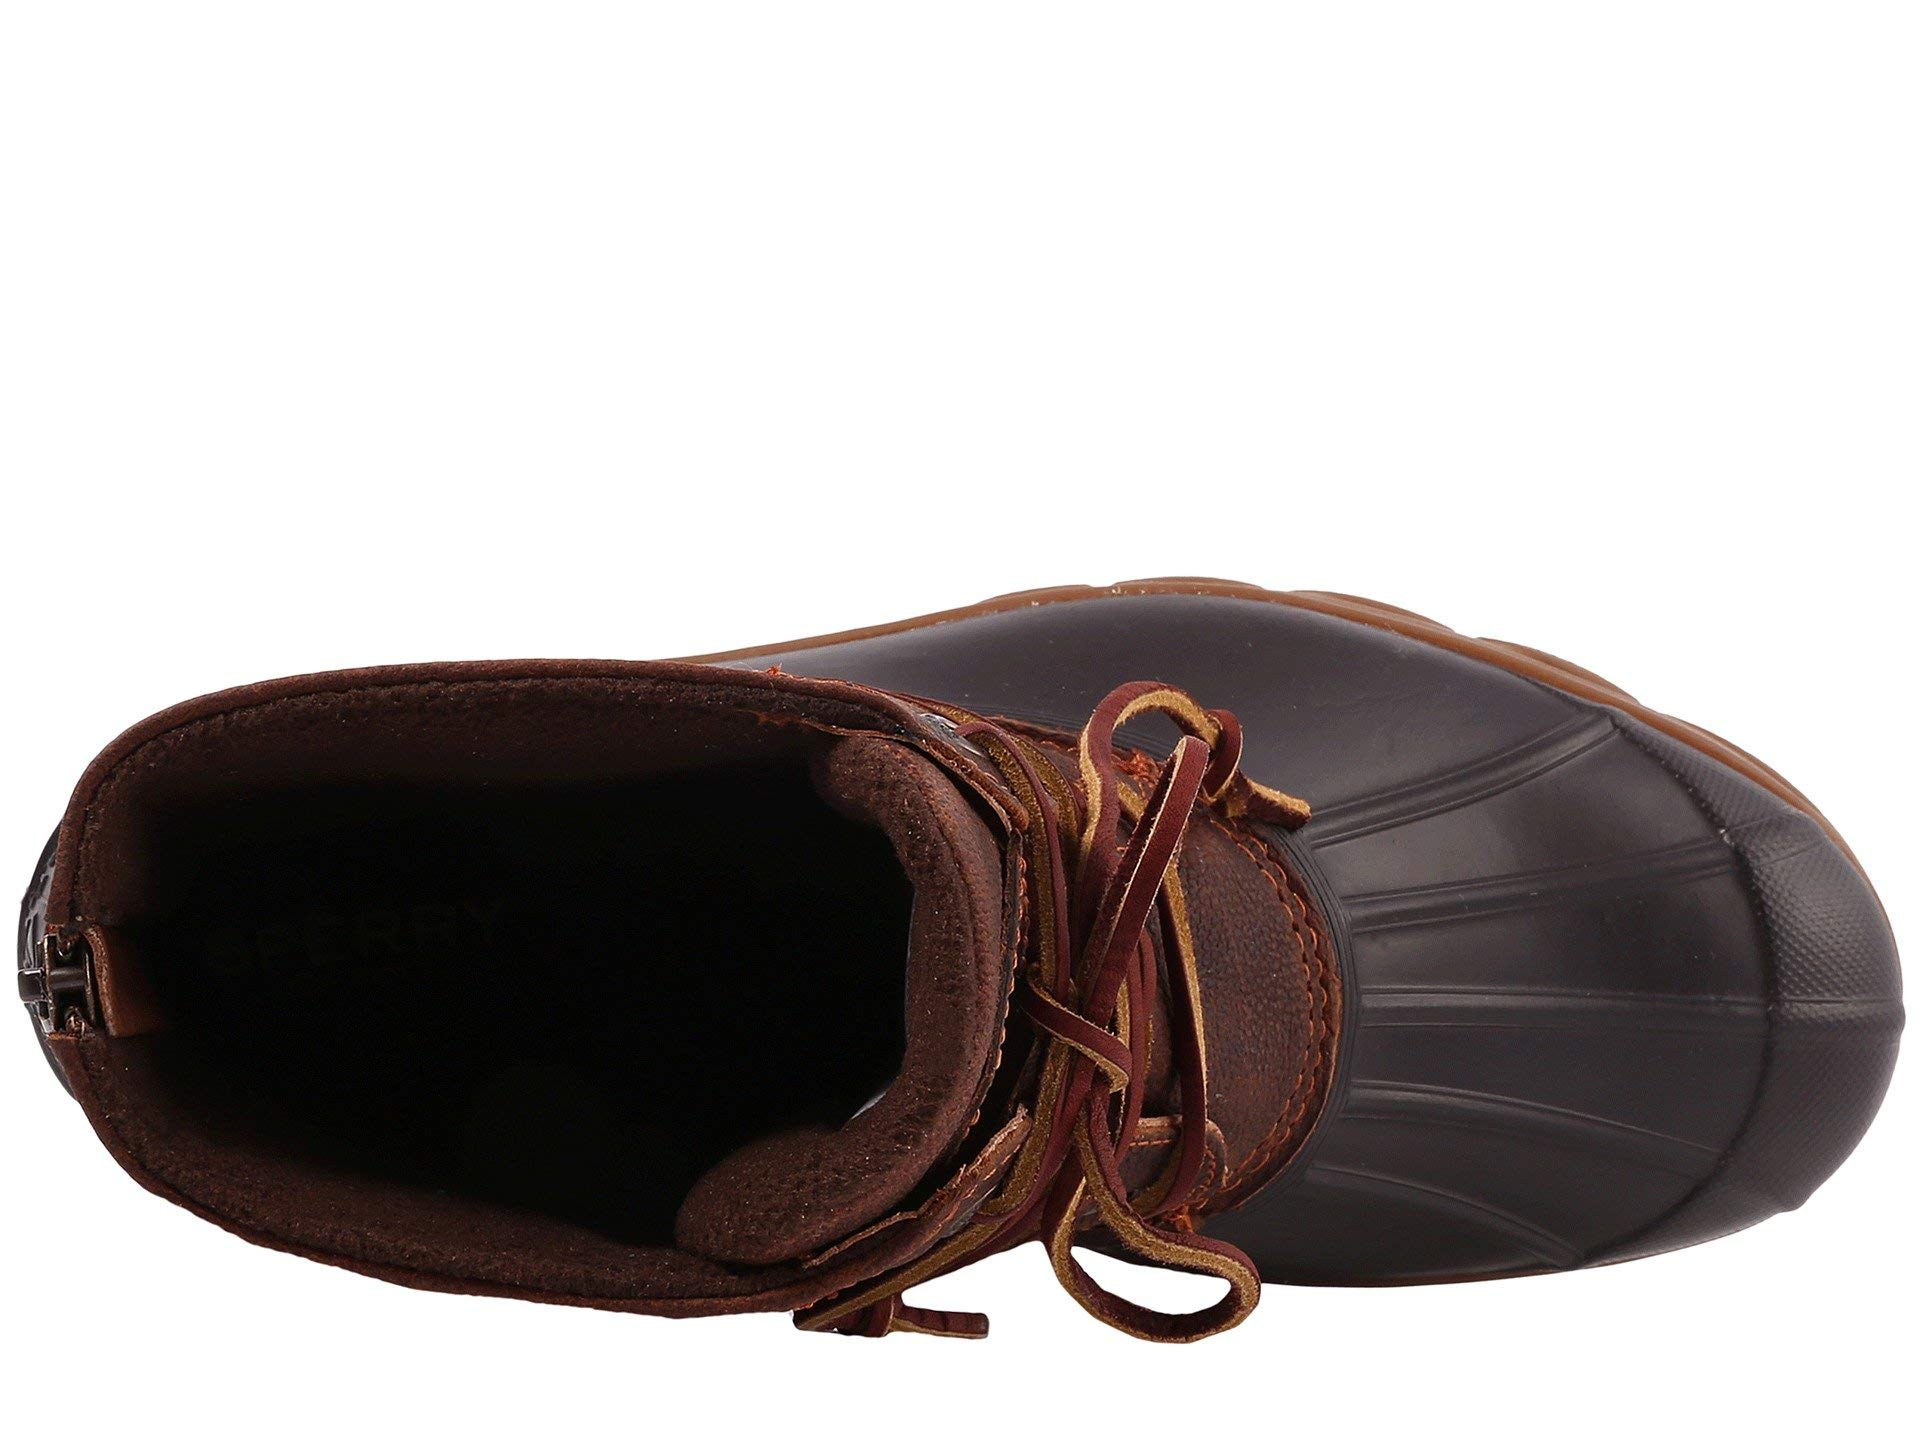exclude: (8, 343, 1917, 1411)
